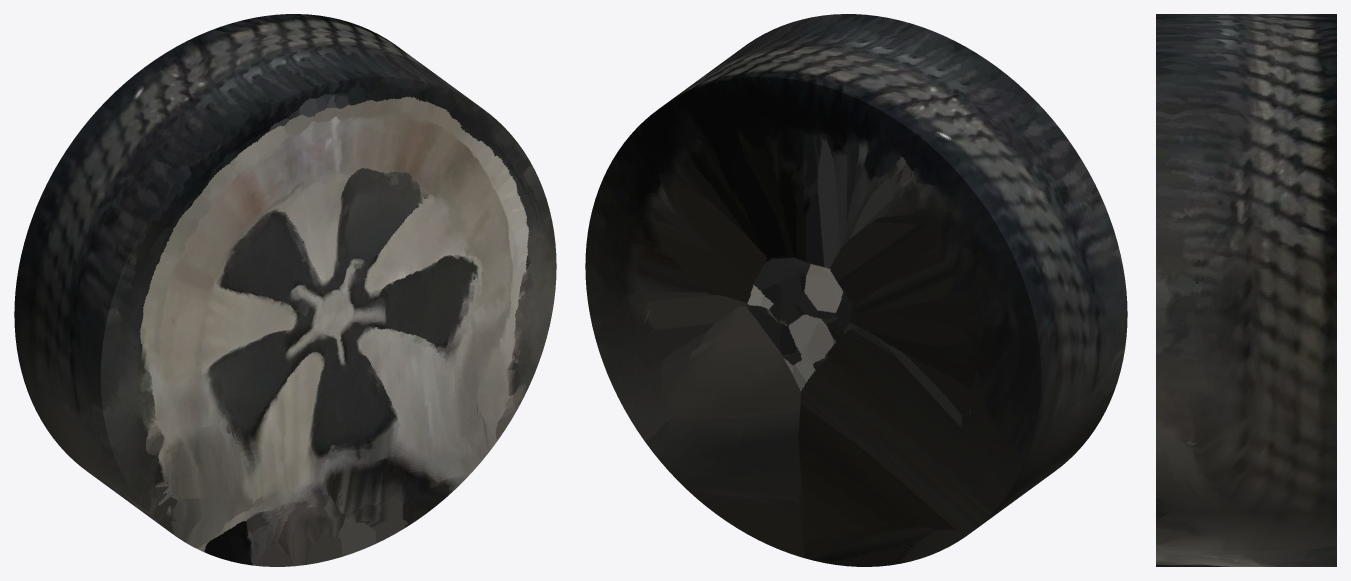
The model's file is right_wheel.dae.
The picture shows the model from 3 angles, left to right: view 1: azimuth 30°, elevation 25°; view 2: azimuth 150°, elevation 25°; view 3: azimuth 270°, elevation 25°; orthographic projection. The views are drawn at different scales.
Visible parts, largest first — view 1: right_wheel; view 2: right_wheel; view 3: right_wheel.
Part boxes in pixels (left/top/right/bottom): right_wheel: left=14, top=14, right=556, bottom=566; right_wheel: left=585, top=14, right=1127, bottom=566; right_wheel: left=1156, top=14, right=1336, bottom=566.
Bounding box in the file's own units: 0.168 × 0.055 × 0.168.
1 material, 1 textured.
